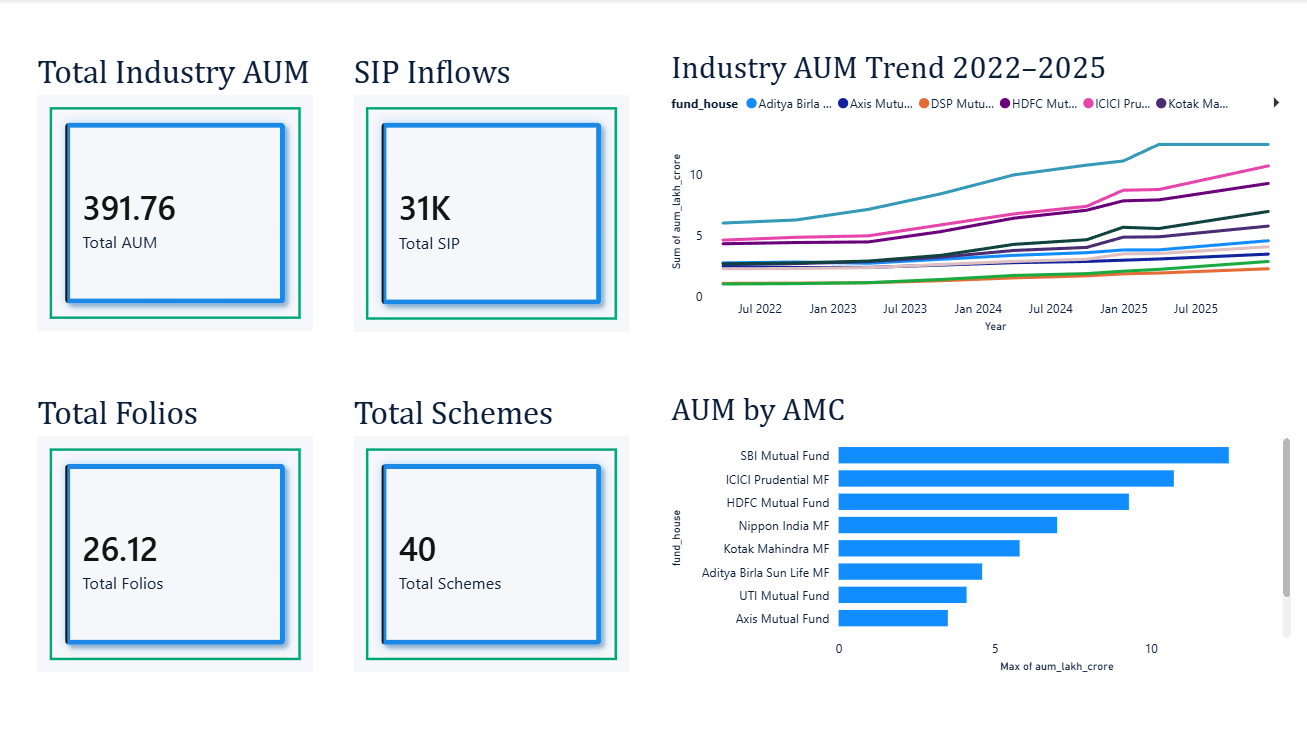

What the dashboard file says about the page in this screenshot:
{"tool":"powerbi","page":{"name":"Industry Overview","canvas":[1280,720],"ordinal":0},"visuals":[{"type":"cardVisual","title":"Total Industry AUM","fields":{"Data":["03_aum_by_fund_house_cleaned.Total AUM"]},"box":[31.4,51.3,279.4,279.4],"z":0},{"type":"cardVisual","title":"SIP Inflows","fields":{"Data":["04_monthly_sip_inflows_cleaned.Total SIP"]},"box":[340.6,52,280,280],"z":1000},{"type":"cardVisual","title":"Total Folios","fields":{"Data":["06_industry_folio_count_cleaned.Total Folios"]},"box":[31.4,384.9,279.4,279.4],"z":2000},{"type":"cardVisual","title":"Total Schemes","fields":{"Data":["01_fund_master_cleaned.Total Schemes"]},"box":[340.7,384.9,279.4,279.4],"z":3000},{"type":"lineChart","title":"Industry AUM Trend 2022–2025","fields":{"Y":["Sum(03_aum_by_fund_house_cleaned.aum_lakh_crore)"],"Series":["03_aum_by_fund_house_cleaned.fund_house"],"Category":["03_aum_by_fund_house_cleaned.date.Variation.Date Hierarchy.Year","03_aum_by_fund_house_cleaned.date.Variation.Date Hierarchy.Quarter","03_aum_by_fund_house_cleaned.date.Variation.Date Hierarchy.Month","03_aum_by_fund_house_cleaned.date.Variation.Date Hierarchy.Day"]},"box":[652.3,52,616.2,280],"z":4000},{"type":"clusteredBarChart","title":"AUM by AMC","fields":{"Category":["03_aum_by_fund_house_cleaned.fund_house"],"Y":["Max(03_aum_by_fund_house_cleaned.aum_lakh_crore)"]},"box":[651.8,385.2,616.3,278.8],"z":5000}]}

Visuals, with their boxes in screenshot pixels (x1, y1, x2, y2), scaled from the page's 1280x720 canvas onto the 1307x732 screenshot:
"Total Industry AUM" cardVisual: <region>32, 52, 317, 336</region>
"SIP Inflows" cardVisual: <region>348, 53, 634, 338</region>
"Total Folios" cardVisual: <region>32, 391, 317, 675</region>
"Total Schemes" cardVisual: <region>348, 391, 633, 675</region>
"Industry AUM Trend 2022–2025" lineChart: <region>666, 53, 1295, 338</region>
"AUM by AMC" clusteredBarChart: <region>666, 392, 1295, 675</region>
